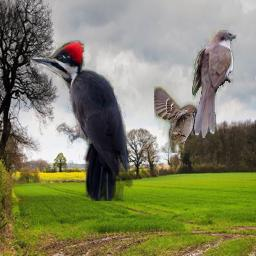Cuckoo: (192, 30, 237, 138)
Sparrow: (154, 86, 200, 153)
Woodpecker: (30, 40, 133, 201)
